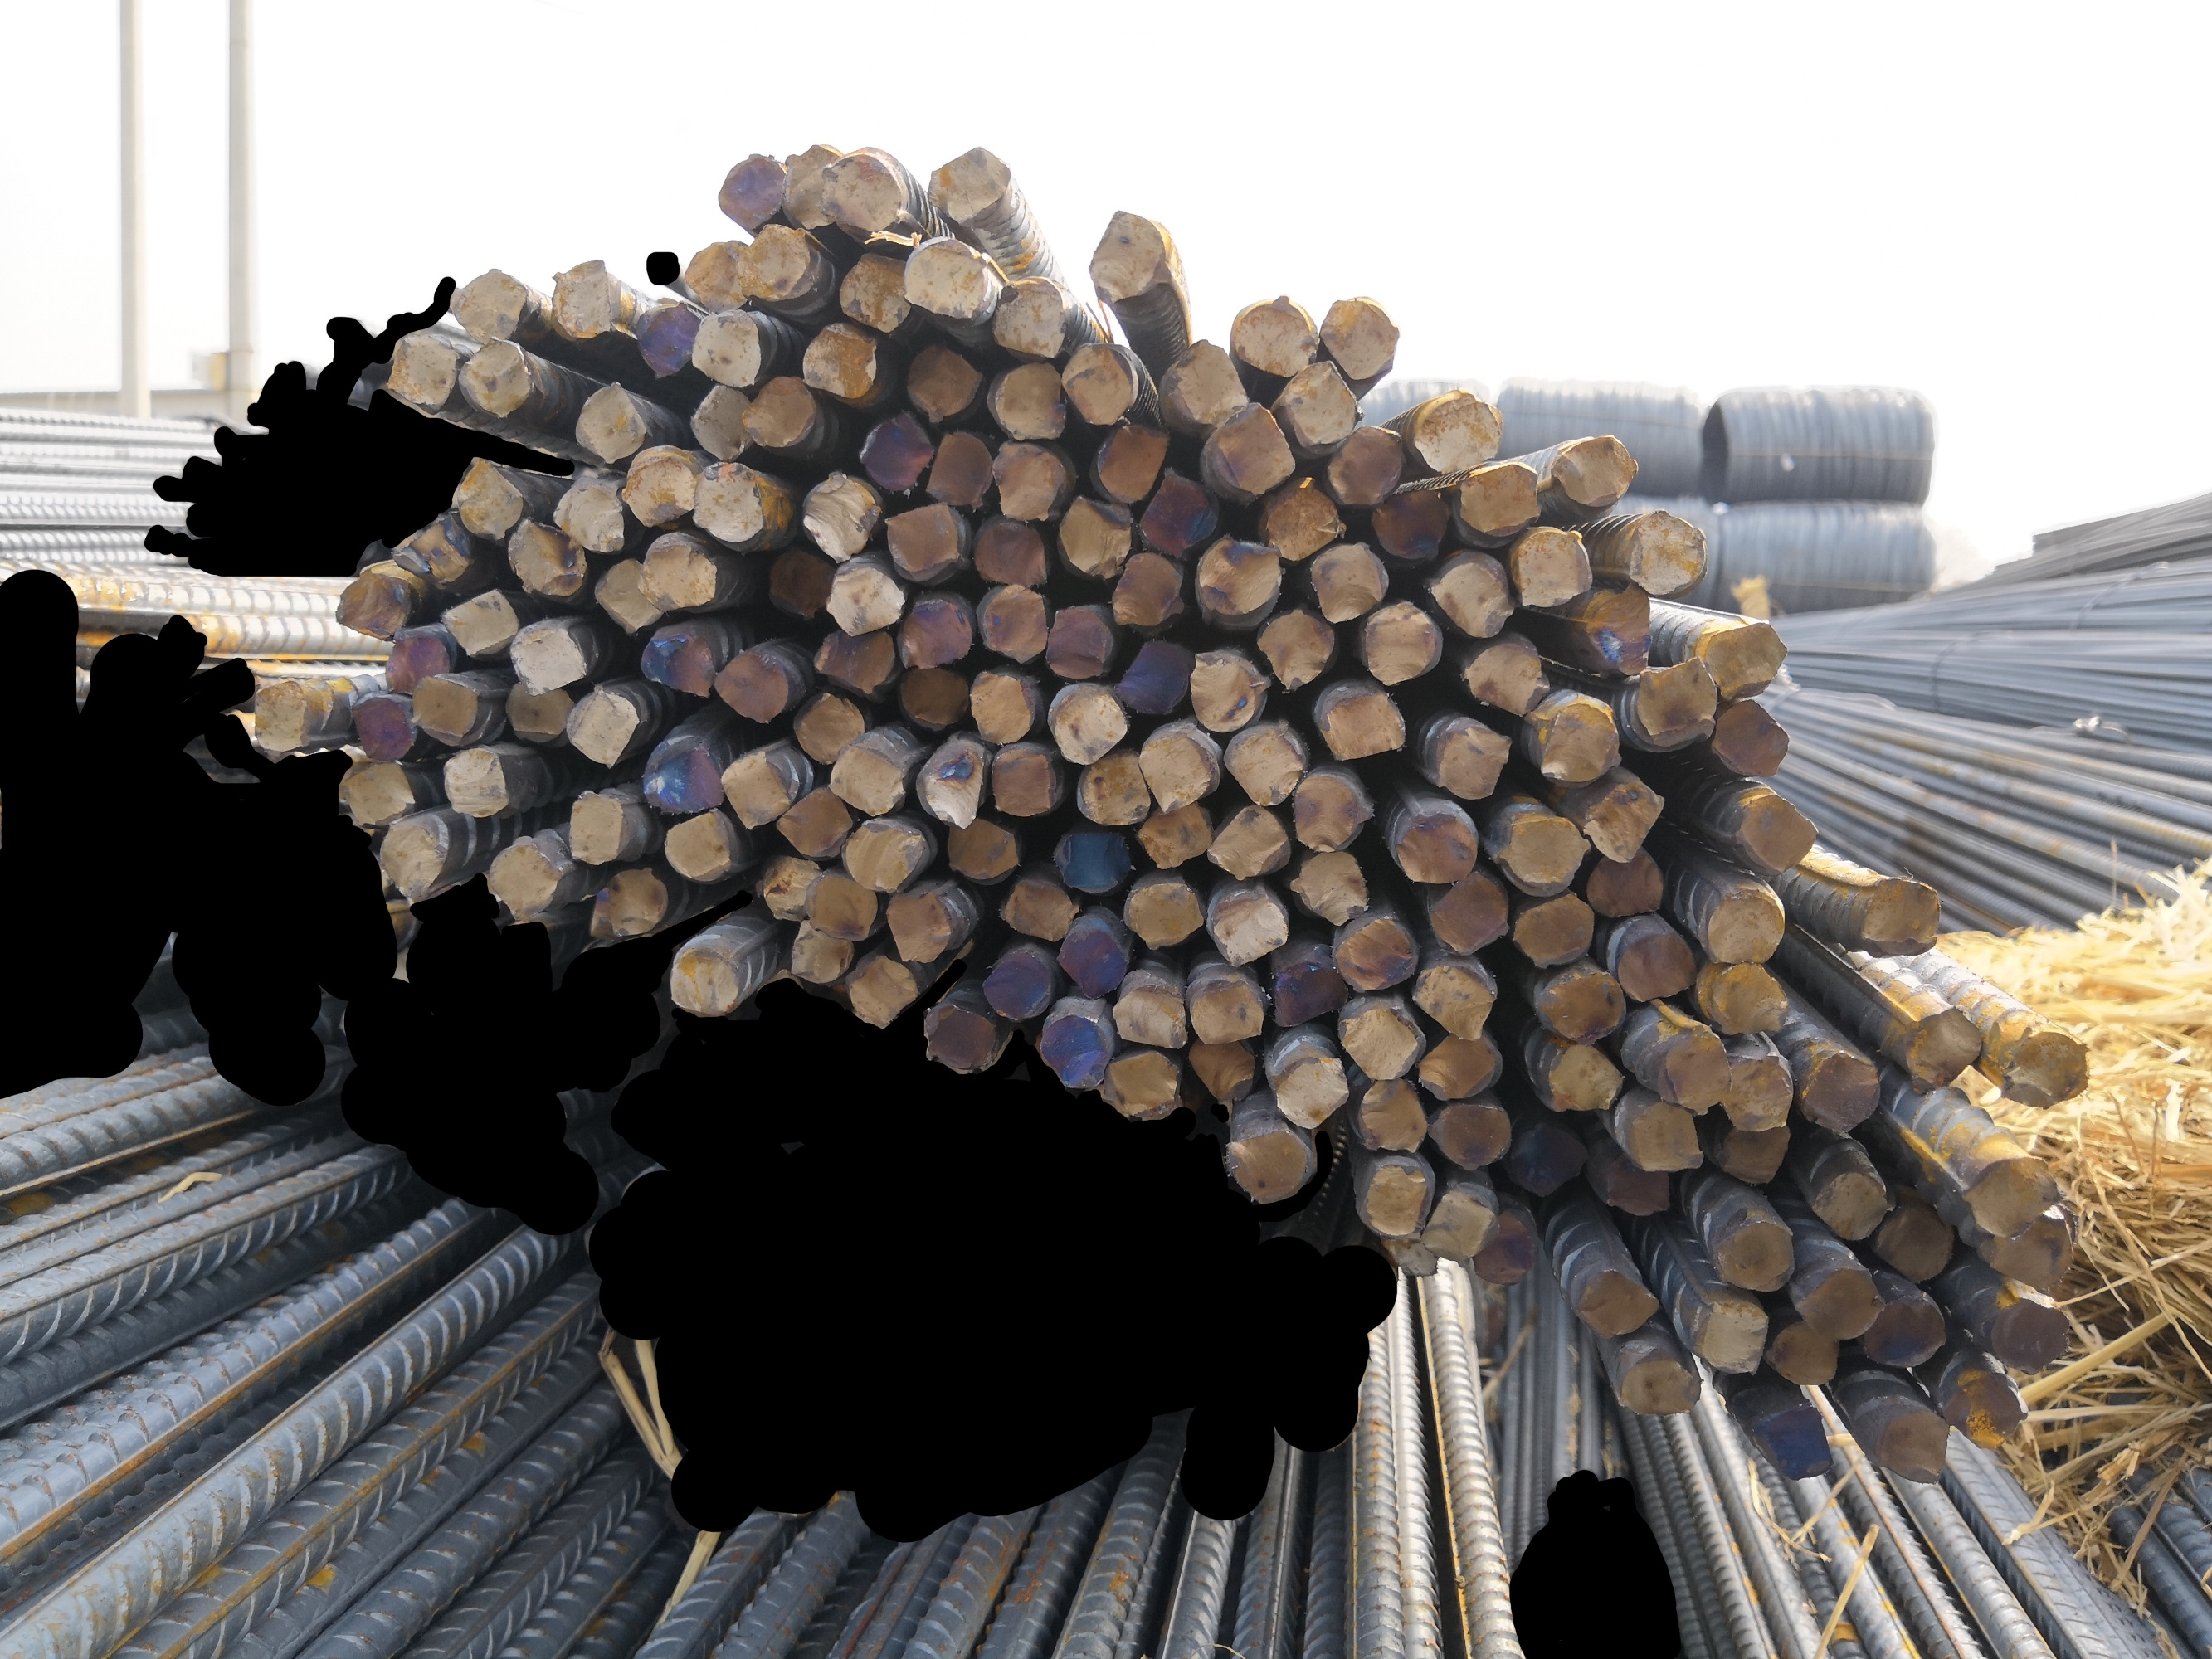person: (1954, 1144, 2066, 1247), (1080, 204, 1178, 306), (1204, 400, 1298, 497), (1409, 385, 1508, 477), (1135, 461, 1225, 562), (1630, 651, 1721, 752), (1895, 1000, 1984, 1101), (1276, 355, 1371, 447), (1262, 469, 1350, 567), (1576, 580, 1663, 678), (799, 467, 884, 567), (1623, 504, 1713, 598), (1999, 1023, 2094, 1112), (1703, 693, 1794, 783), (896, 231, 988, 320), (1221, 717, 1309, 810), (1798, 1044, 1885, 1137), (1651, 1020, 1734, 1117), (1536, 700, 1625, 791), (923, 141, 1015, 229), (818, 145, 904, 239), (1324, 417, 1410, 510), (1333, 999, 1425, 1084), (1404, 960, 1498, 1045), (1698, 616, 1792, 703), (1497, 813, 1591, 897), (1699, 881, 1788, 971), (1620, 1089, 1712, 1177), (1854, 873, 1943, 960), (1871, 1191, 1956, 1285), (1196, 527, 1279, 620), (1303, 540, 1391, 628), (1252, 606, 1341, 694), (1179, 645, 1266, 733), (1462, 630, 1551, 716), (1731, 787, 1820, 874), (852, 406, 938, 497), (1581, 774, 1667, 864), (1109, 628, 1193, 720), (1360, 598, 1443, 689), (1427, 557, 1519, 642), (1792, 1260, 1883, 1343), (690, 455, 772, 548), (1747, 1399, 1840, 1481), (988, 431, 1069, 526), (450, 333, 538, 418), (1416, 1020, 1506, 1104), (1707, 1209, 1795, 1295), (1609, 924, 1700, 1008), (904, 334, 985, 426), (1319, 292, 1400, 387), (1548, 431, 1645, 508), (1230, 294, 1317, 379), (1425, 869, 1512, 956), (1512, 527, 1599, 611), (500, 515, 590, 600), (1206, 882, 1290, 971), (1328, 912, 1418, 996), (990, 351, 1072, 441), (382, 507, 474, 588), (1056, 491, 1137, 583), (1169, 336, 1248, 431), (1509, 891, 1603, 969), (1699, 959, 1794, 1037), (428, 585, 524, 662), (1985, 1206, 2070, 1292), (1289, 767, 1371, 855), (1537, 1031, 1626, 1113), (1134, 727, 1216, 818), (990, 273, 1070, 364), (1449, 459, 1542, 537), (1718, 1044, 1796, 1136), (1572, 1260, 1667, 1337), (1046, 682, 1130, 766), (1988, 1289, 2071, 1375), (1504, 1117, 1591, 1199), (569, 378, 650, 467), (1096, 417, 1173, 509), (798, 318, 882, 401), (442, 264, 525, 348), (558, 684, 641, 771), (1106, 547, 1190, 630), (380, 328, 460, 416), (879, 498, 967, 578), (1057, 341, 1137, 429), (1206, 800, 1294, 880), (840, 819, 929, 897), (485, 834, 562, 924), (543, 253, 618, 343), (1316, 686, 1406, 763), (636, 742, 729, 818), (925, 421, 1001, 513), (1533, 973, 1627, 1047), (685, 306, 767, 390), (787, 685, 868, 769), (918, 995, 1001, 1077), (1290, 847, 1372, 931), (1392, 805, 1479, 885), (730, 221, 817, 300), (1226, 1124, 1315, 1203), (719, 745, 794, 833), (835, 245, 911, 333), (773, 139, 847, 230), (1867, 1292, 1951, 1371), (504, 620, 590, 698), (1099, 1048, 1187, 1123), (1274, 1049, 1351, 1136), (1355, 1071, 1431, 1159), (377, 810, 452, 899), (824, 739, 905, 820), (1432, 721, 1514, 802), (1870, 1404, 1953, 1485), (893, 595, 977, 673), (1693, 1297, 1773, 1380), (1946, 1375, 2030, 1454), (1586, 842, 1672, 919), (809, 623, 898, 695), (775, 783, 856, 863), (971, 513, 1050, 594), (843, 951, 922, 1032), (1369, 486, 1449, 565), (1811, 1167, 1893, 1247), (1039, 597, 1116, 682), (330, 566, 415, 642), (635, 538, 720, 614), (452, 453, 525, 540), (1121, 876, 1208, 951), (821, 567, 909, 639), (977, 577, 1050, 664), (1183, 974, 1270, 1047), (551, 479, 629, 560), (738, 372, 820, 452), (617, 451, 698, 529), (1761, 1310, 1842, 1389), (799, 865, 875, 946), (1071, 752, 1153, 830), (1133, 795, 1216, 871), (1429, 1098, 1512, 1175), (1596, 1141, 1675, 1220), (714, 645, 792, 726), (1355, 1158, 1430, 1238), (1053, 823, 1134, 897), (1185, 1027, 1260, 1109), (713, 150, 787, 233), (587, 557, 665, 635), (1420, 1186, 1499, 1263), (1717, 1112, 1794, 1190), (633, 630, 717, 703), (940, 815, 1023, 885), (998, 877, 1083, 947), (918, 744, 988, 830), (893, 658, 973, 731), (1036, 1013, 1111, 1093), (1056, 922, 1129, 1002), (1271, 955, 1351, 1029), (495, 677, 577, 747), (335, 760, 419, 830), (685, 378, 755, 462), (980, 947, 1056, 1023), (660, 806, 734, 883), (665, 944, 742, 1018), (879, 888, 954, 966), (402, 673, 480, 744), (984, 740, 1055, 820), (762, 542, 831, 623), (1616, 1358, 1705, 1420), (1470, 1206, 1537, 1288), (964, 664, 1030, 748), (438, 747, 512, 820), (636, 296, 701, 380), (344, 689, 415, 767), (604, 863, 670, 943), (755, 847, 821, 927), (1108, 985, 1188, 1050), (376, 625, 453, 694), (564, 784, 626, 868), (682, 238, 751, 313), (249, 678, 312, 753), (788, 917, 855, 984), (1378, 1227, 1440, 1279), (583, 882, 614, 944)
